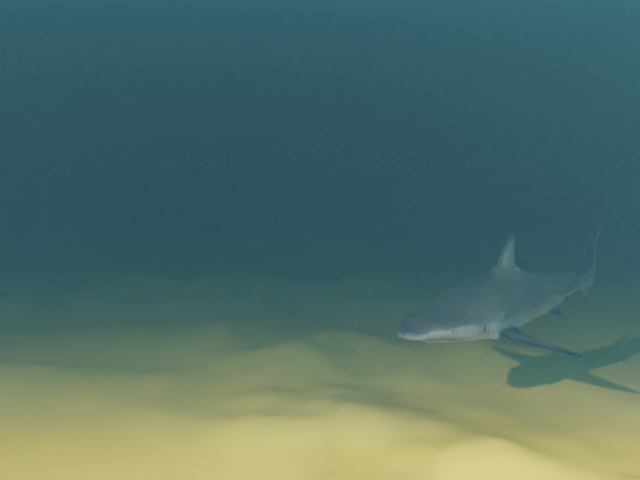Carribean Shark.001: (396, 216, 607, 357)
